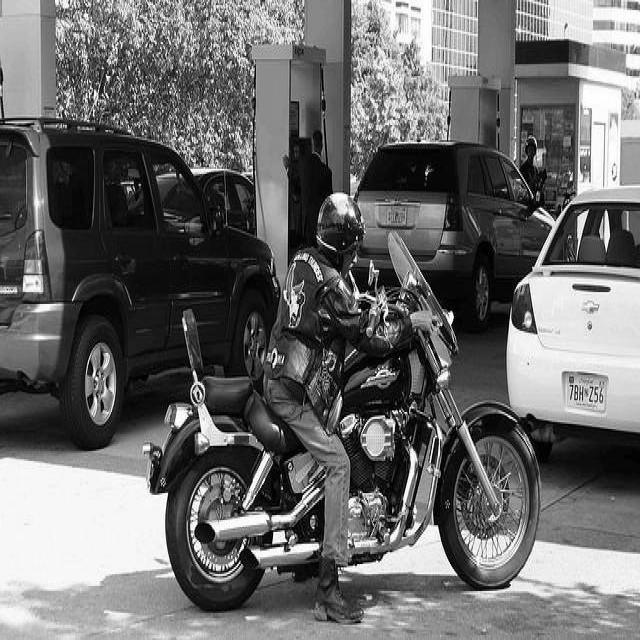vehicle: (143, 216, 543, 610), (0, 115, 282, 450), (504, 168, 640, 465), (352, 140, 550, 341), (197, 167, 257, 241)
